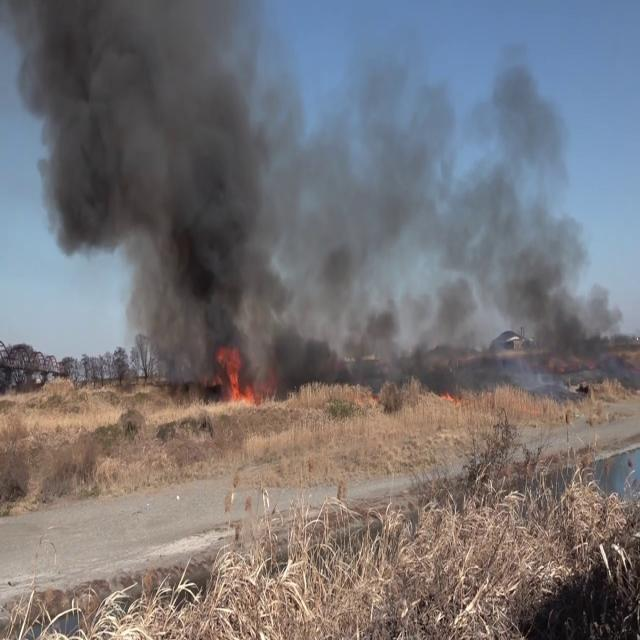Fire: (210, 339, 260, 409)
Smoke: (284, 32, 636, 376), (6, 0, 300, 373)
